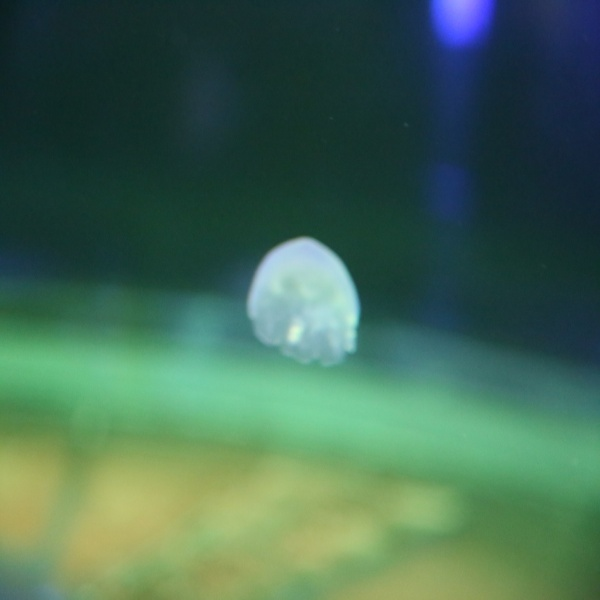Jellyfish: (243, 231, 360, 377)
